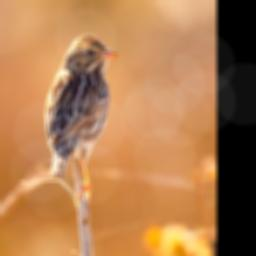Sparrow: (43, 32, 121, 204)
